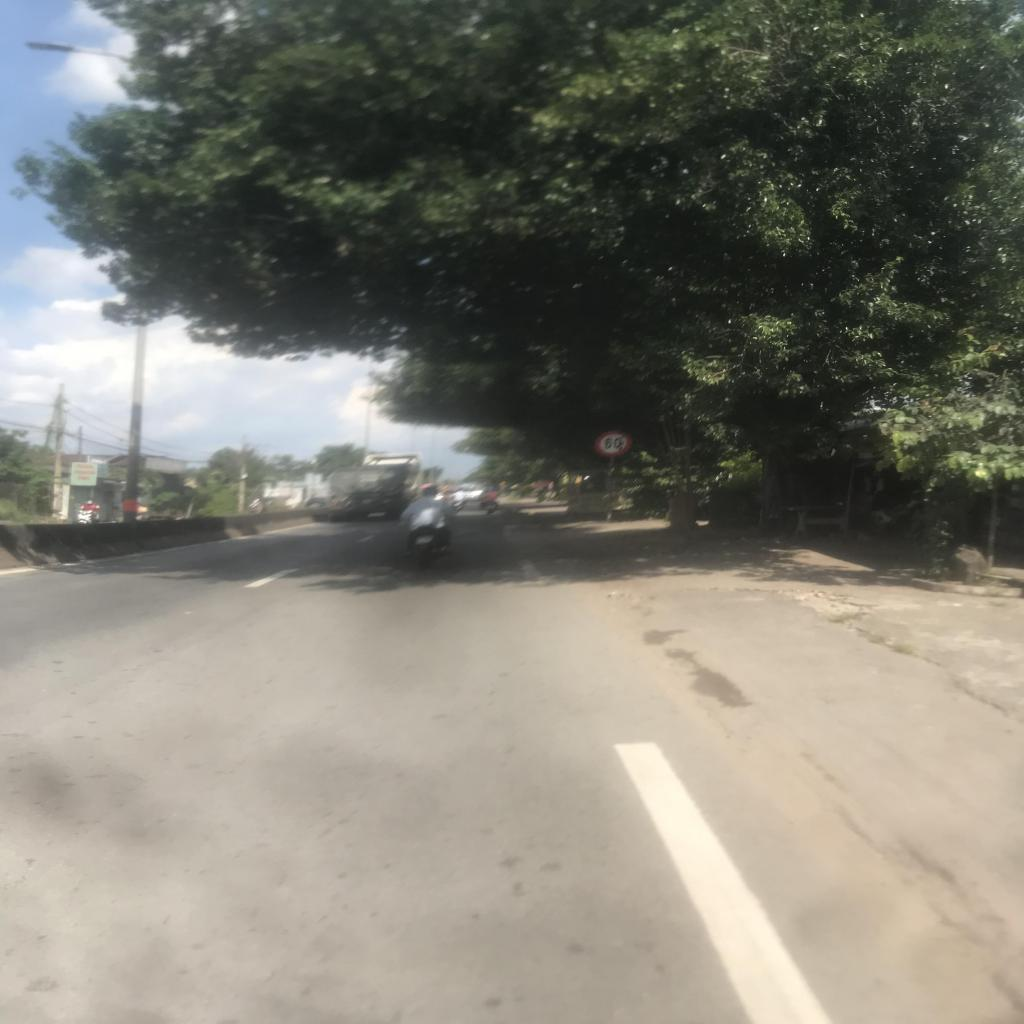toc_do_toi_da_60: (595, 431, 631, 456)
